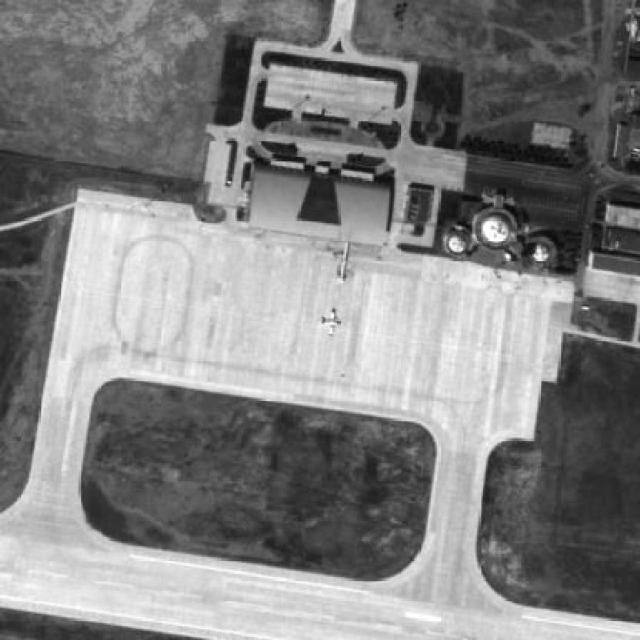airplane: (317, 306, 348, 340)
